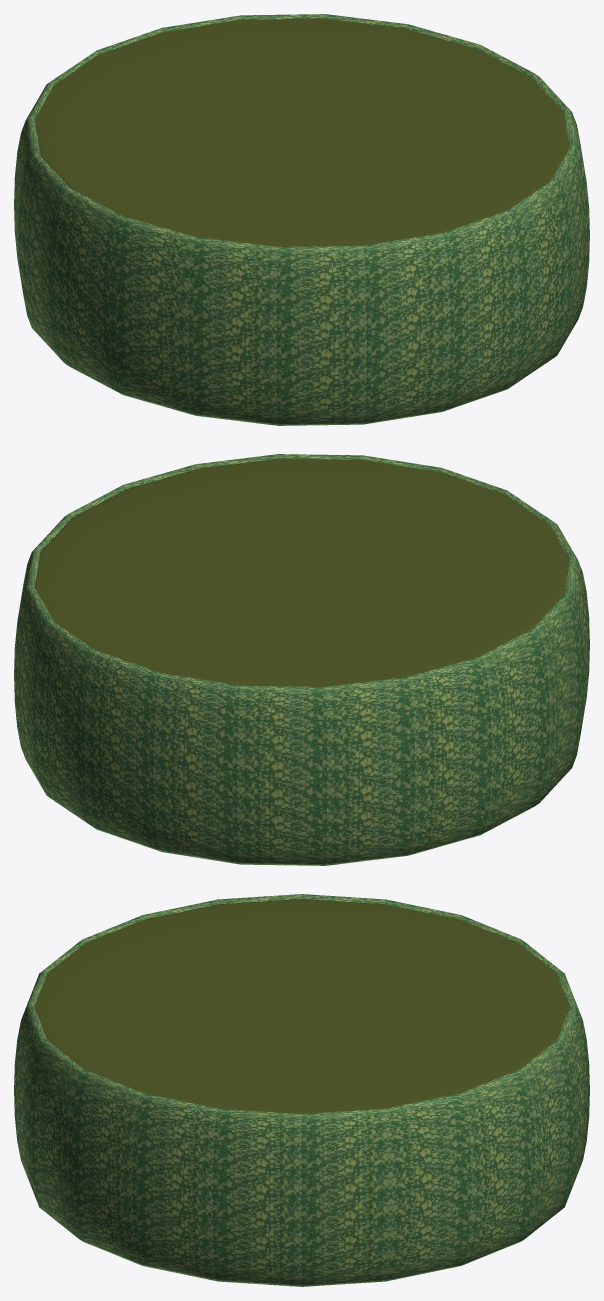
Rendered from cuarto1.obj.
3 views of the same model, one above another, from view 1: azimuth 30°, elevation 25°; view 2: azimuth 150°, elevation 25°; view 3: azimuth 270°, elevation 25° (orthographic). The views are drawn at different scales.
Visible parts, largest first — view 1: pTorus2, pSphere2; view 2: pTorus2, pSphere2; view 3: pTorus2, pSphere2.
Part boxes in pixels (left/top/right/bottom): pTorus2: left=14, top=14, right=589, bottom=425; pSphere2: left=35, top=18, right=568, bottom=246; pTorus2: left=14, top=454, right=589, bottom=865; pSphere2: left=35, top=458, right=568, bottom=686; pTorus2: left=14, top=894, right=589, bottom=1286; pSphere2: left=34, top=899, right=569, bottom=1113.
Bounding box in the file's own units: 32.67 × 11.31 × 34.02.
